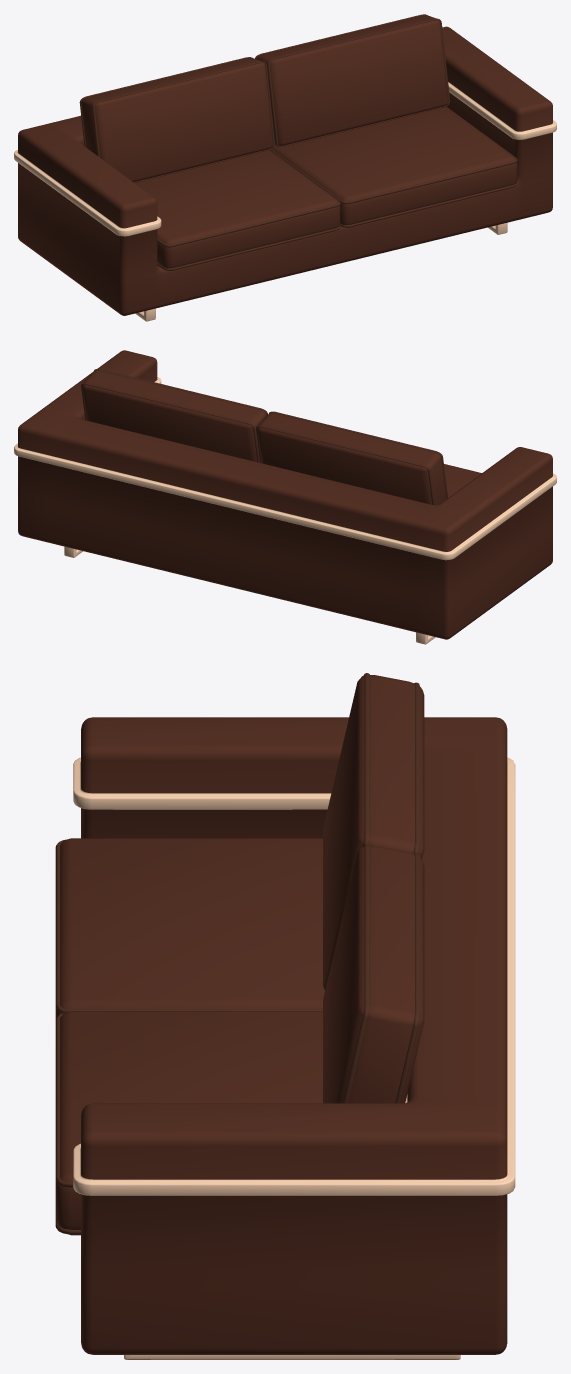
The model's file is couch by iayseozdemir.fbx.
The picture shows the model from 3 angles, top to bottom: view 1: azimuth 30°, elevation 25°; view 2: azimuth 150°, elevation 25°; view 3: azimuth 270°, elevation 25°; orthographic projection. The views are drawn at different scales.
Visible parts, largest first — view 1: couch by iayseozdemir; view 2: couch by iayseozdemir; view 3: couch by iayseozdemir.
Boxes of the visible parts, box(x1,y1,x2,y2) form: couch by iayseozdemir: box(14, 14, 556, 321); couch by iayseozdemir: box(14, 350, 556, 644); couch by iayseozdemir: box(55, 673, 515, 1359).
Bounding box in the file's own units: 203 × 76.55 × 91.93.
